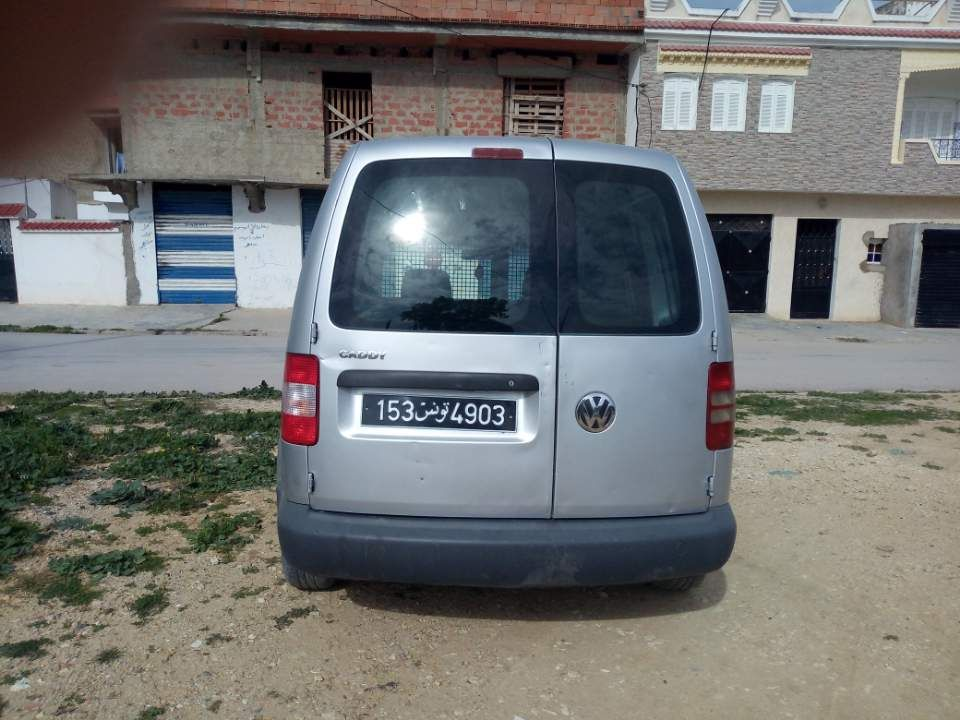LP: (358, 389, 523, 437)
